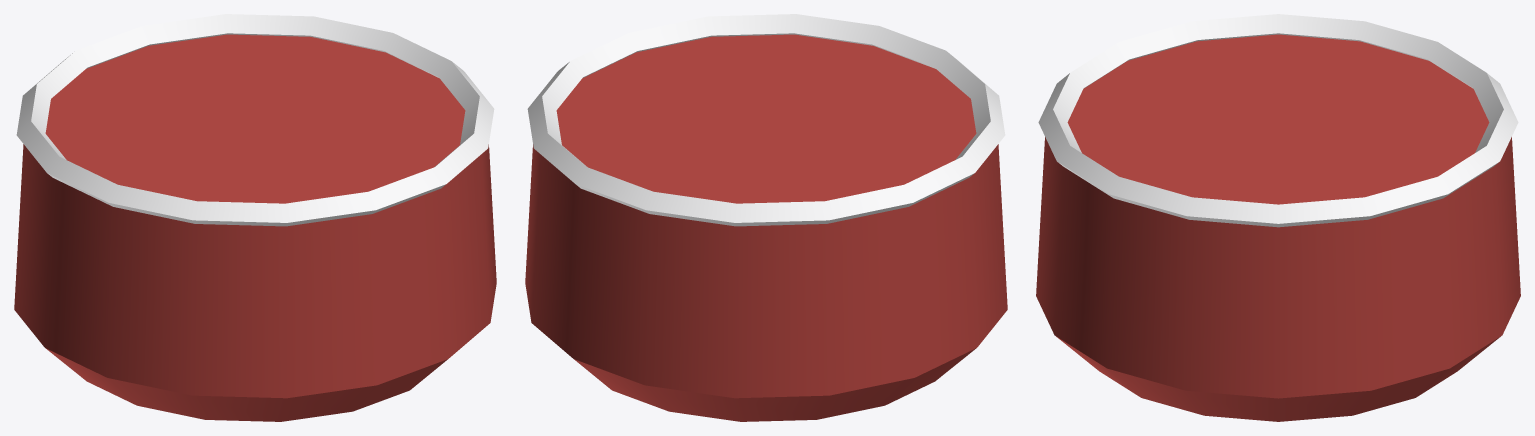
File: dial_lod1.glb
The picture shows the model from 3 angles, left to right: view 1: azimuth 30°, elevation 25°; view 2: azimuth 150°, elevation 25°; view 3: azimuth 270°, elevation 25°; orthographic projection.
Parts seen in each view (by area): view 1: dial_lod1; view 2: dial_lod1; view 3: dial_lod1.
Boxes of the visible parts, x1=… form: dial_lod1: x1=14, y1=14, x2=496, y2=421; dial_lod1: x1=525, y1=14, x2=1007, y2=421; dial_lod1: x1=1036, y1=14, x2=1520, y2=421.
Size of the model in its own units: 0.1 by 0.0615 by 0.1.
